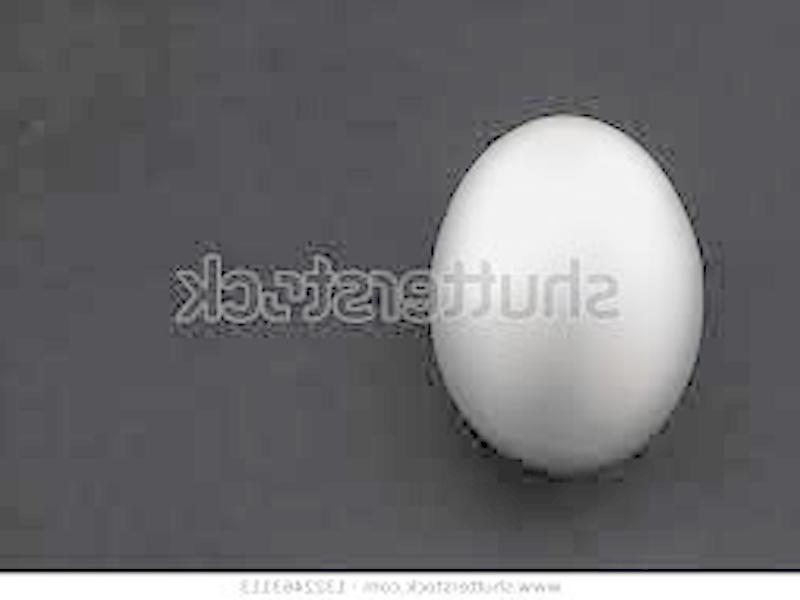Eggs: (437, 112, 705, 467)
